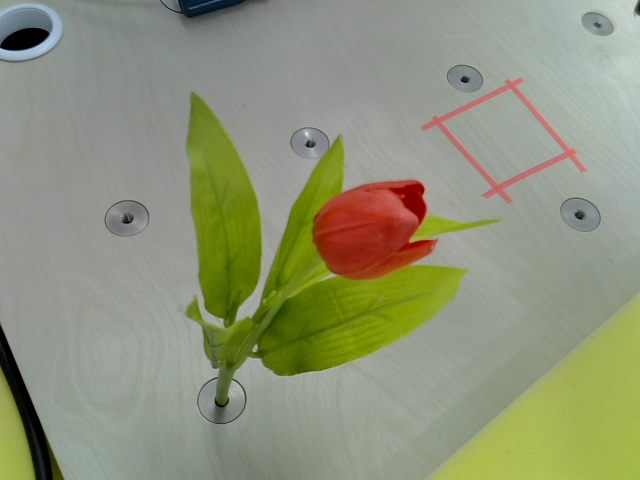튤립: (309, 177, 438, 282)
